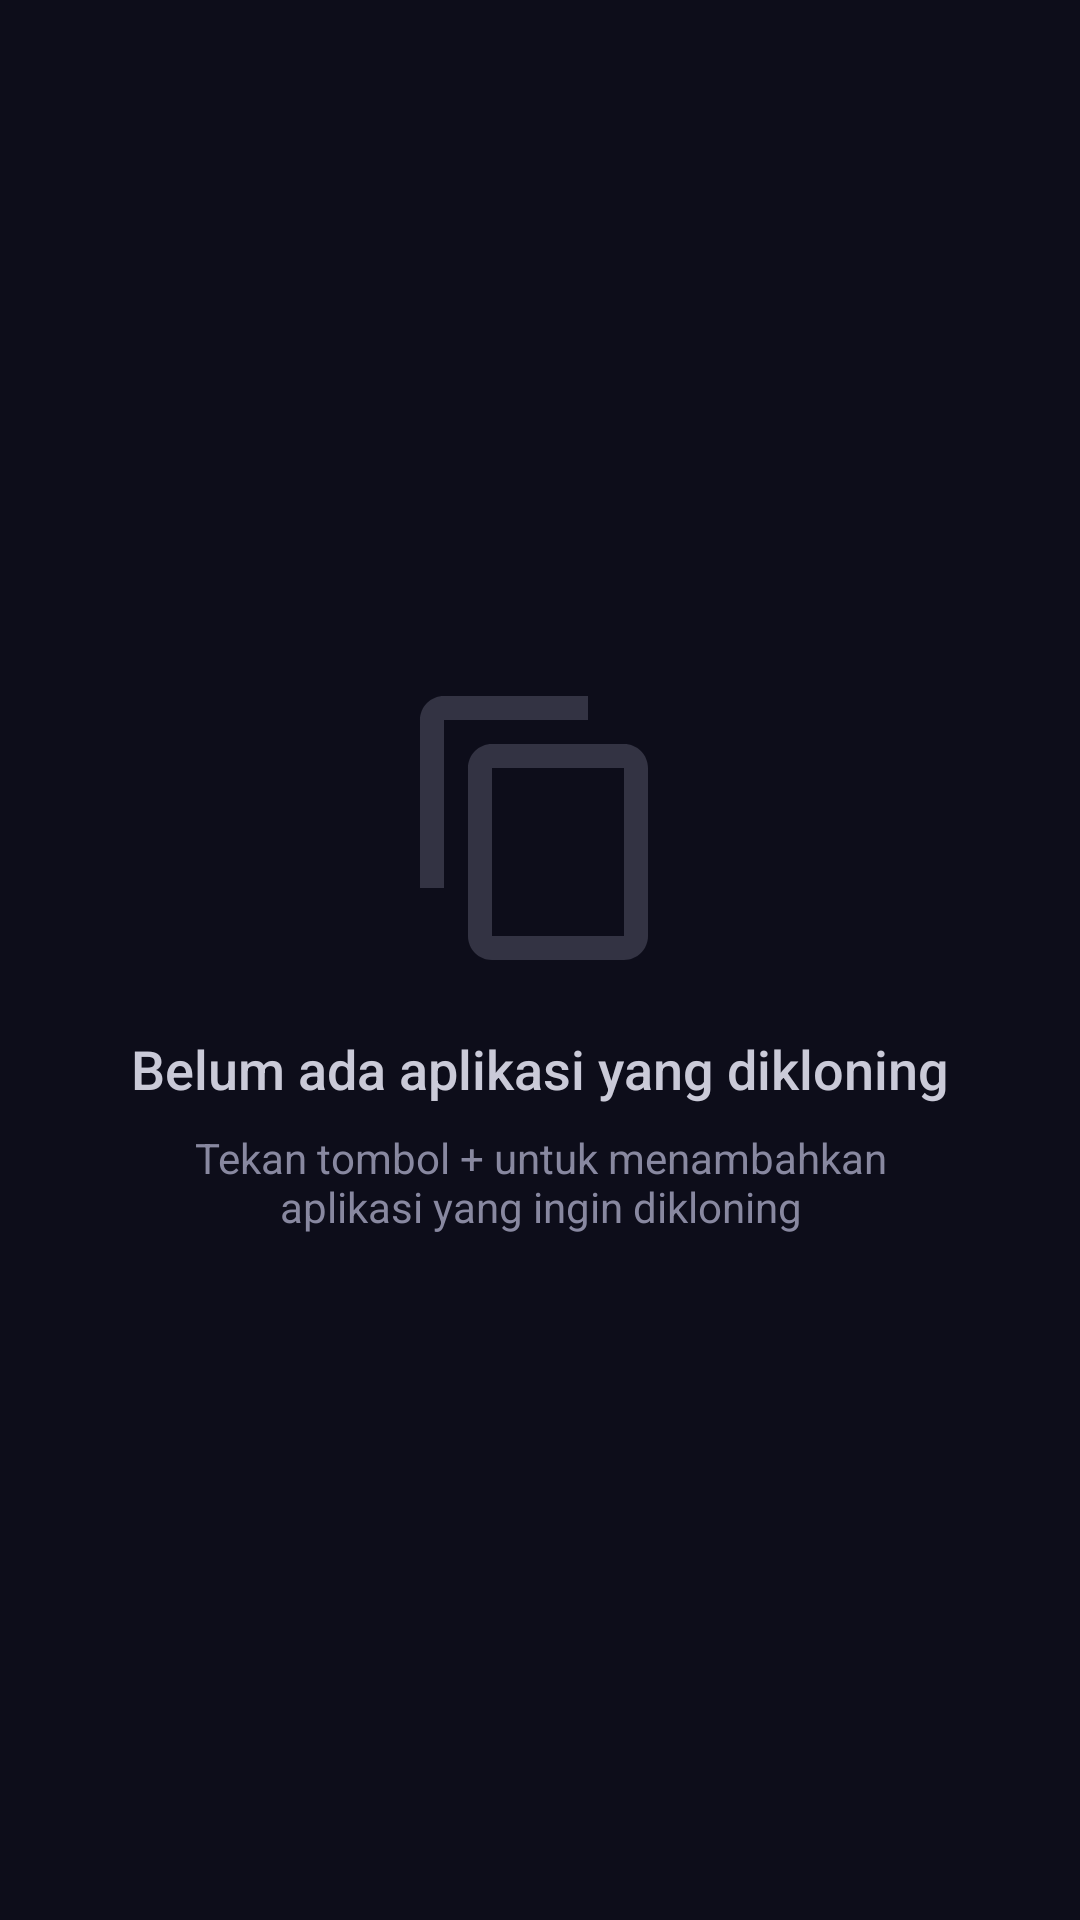

Icon click points for this 1080*1920 phone screenshot, format point (x, y):
clone: point (534, 828)
